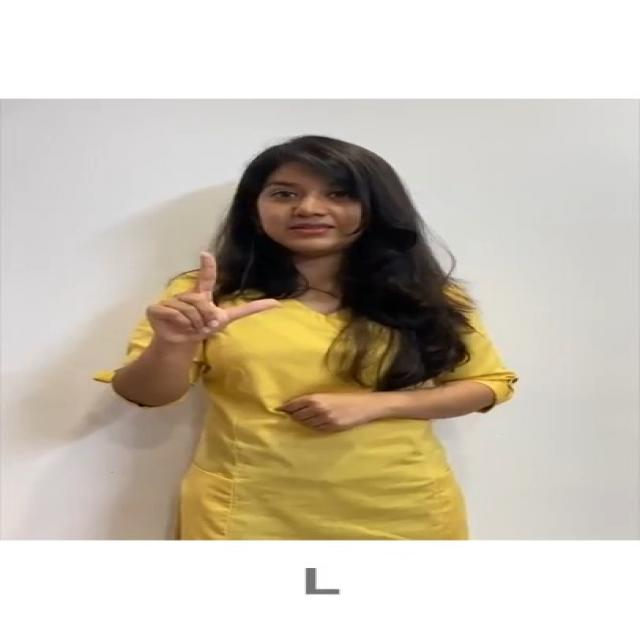L: (134, 243, 290, 363)
